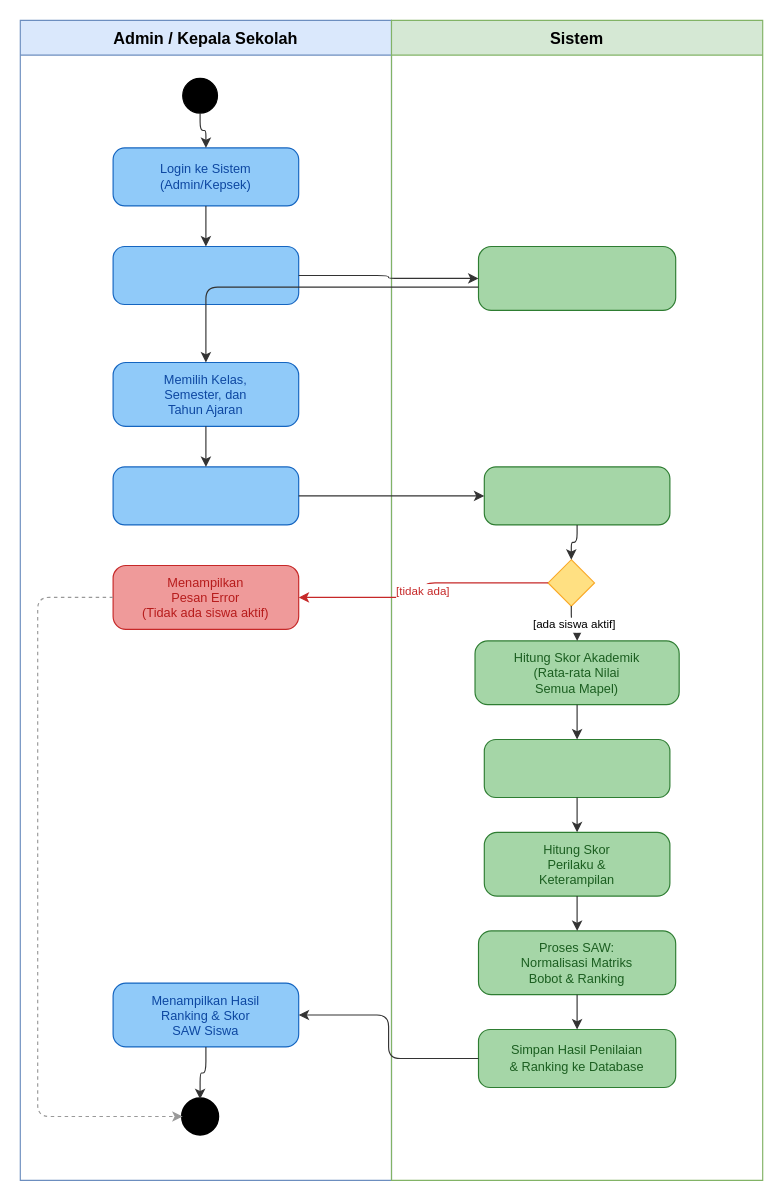
Image size: 783x1201. Some labels were removed from this diagram. The shapes that lost their labels are listed below. From the top down, each one's centre as x and y in pixels, then its label:
[205,274]: Membuka Menu SAW Penilaian Siswa
[576,277]: Menampilkan Halaman Penilaian SAW Siswa dan Daftar Kelas
[205,495]: Klik Tombol Hitung SAW
[576,495]: Mengambil Data Siswa Aktif di Kelas
[576,768]: Hitung Skor Kehadiran Siswa
